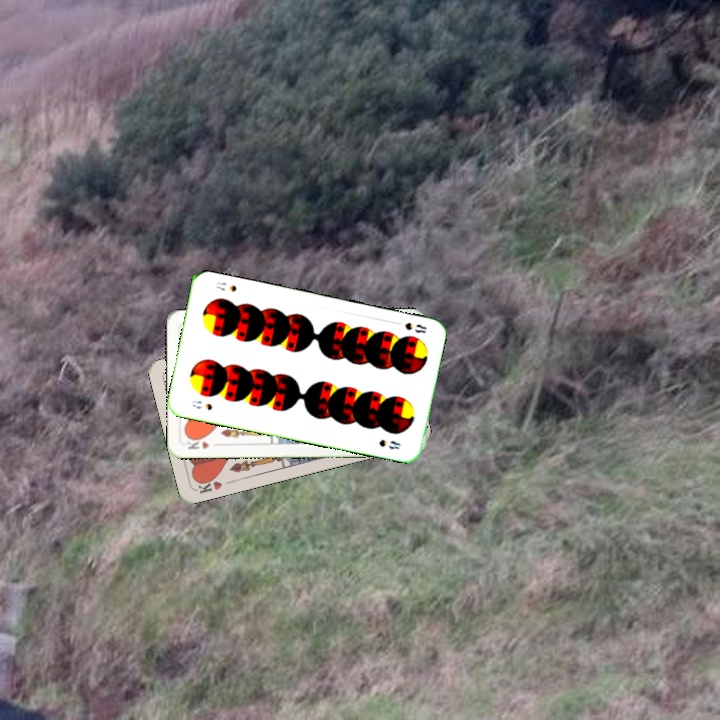HK: (192, 473, 233, 496), (182, 434, 212, 452)
S8: (401, 318, 428, 336), (188, 396, 215, 413)
